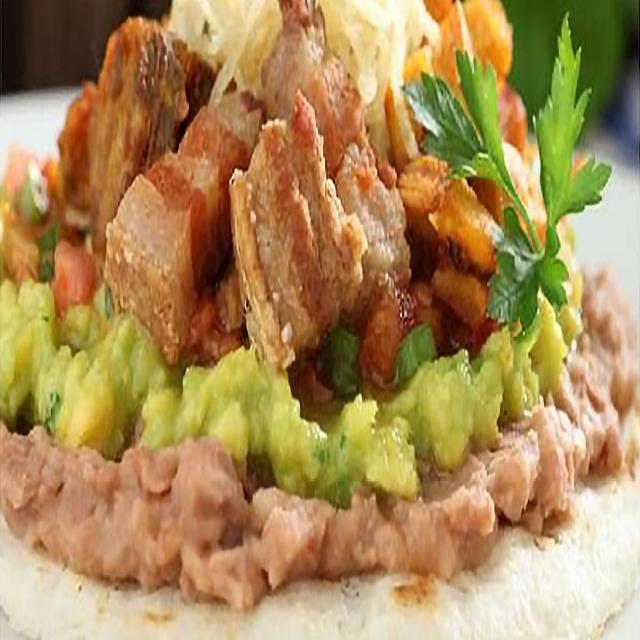carne de cerdo: (82, 10, 412, 410)
